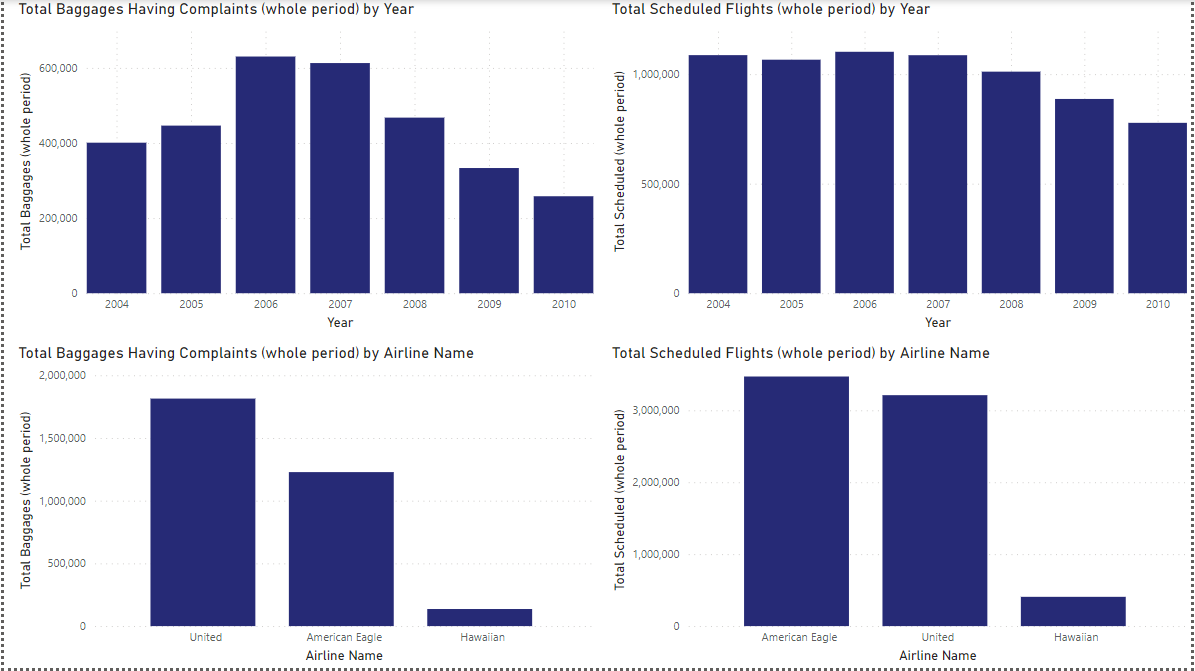

The page's visual inventory and layout, read from the dashboard file:
{"tool":"powerbi","page":{"name":"Page 2","canvas":[1280,720],"ordinal":1},"visuals":[{"type":"columnChart","title":"Total Baggages Having Complaints (whole period) by Airline Name","fields":{"Y":["factComplaints.Total Baggages (whole period)"],"Category":["dimAirlines.Airline Name"]},"box":[10,371,630,349],"z":0},{"type":"columnChart","title":"Total Scheduled Flights (whole period) by Year","fields":{"Y":["factComplaints.Total Scheduled (whole period)"],"Category":["dimDates.Year"]},"box":[650,0,630,361],"z":1000},{"type":"columnChart","title":"Total Baggages Having Complaints (whole period) by Year","fields":{"Y":["factComplaints.Total Baggages (whole period)"],"Category":["dimDates.Year"]},"box":[10,0,630,361],"z":2000},{"type":"columnChart","title":"Total Scheduled Flights (whole period) by Airline Name","fields":{"Y":["factComplaints.Total Scheduled (whole period)"],"Category":["dimAirlines.Airline Name"]},"box":[650,371,630,349],"z":3000}]}

Visuals, with their boxes in screenshot pixels (x1, y1, x2, y2), scaled from the page's 1280x720 canvas onto the 1195x671 screenshot:
"Total Baggages Having Complaints (whole period) by Airline Name" columnChart: select_region(9, 346, 598, 670)
"Total Scheduled Flights (whole period) by Year" columnChart: select_region(607, 0, 1194, 336)
"Total Baggages Having Complaints (whole period) by Year" columnChart: select_region(9, 0, 598, 336)
"Total Scheduled Flights (whole period) by Airline Name" columnChart: select_region(607, 346, 1194, 670)
